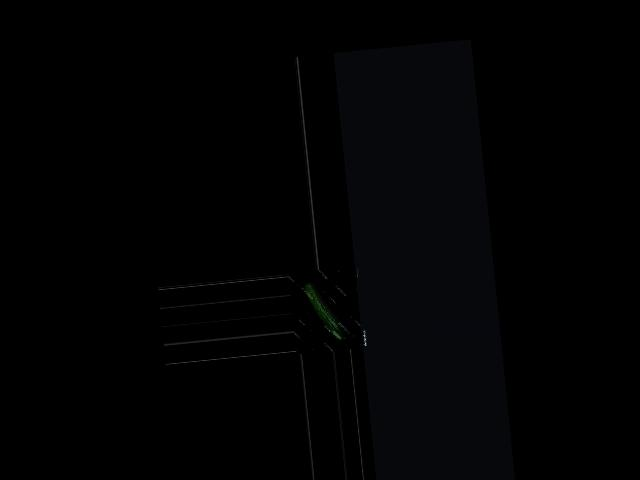cucumber: (304, 278, 348, 343)
